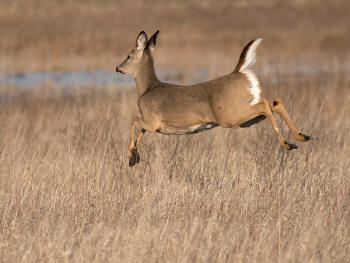Deer: (121, 34, 315, 170)
